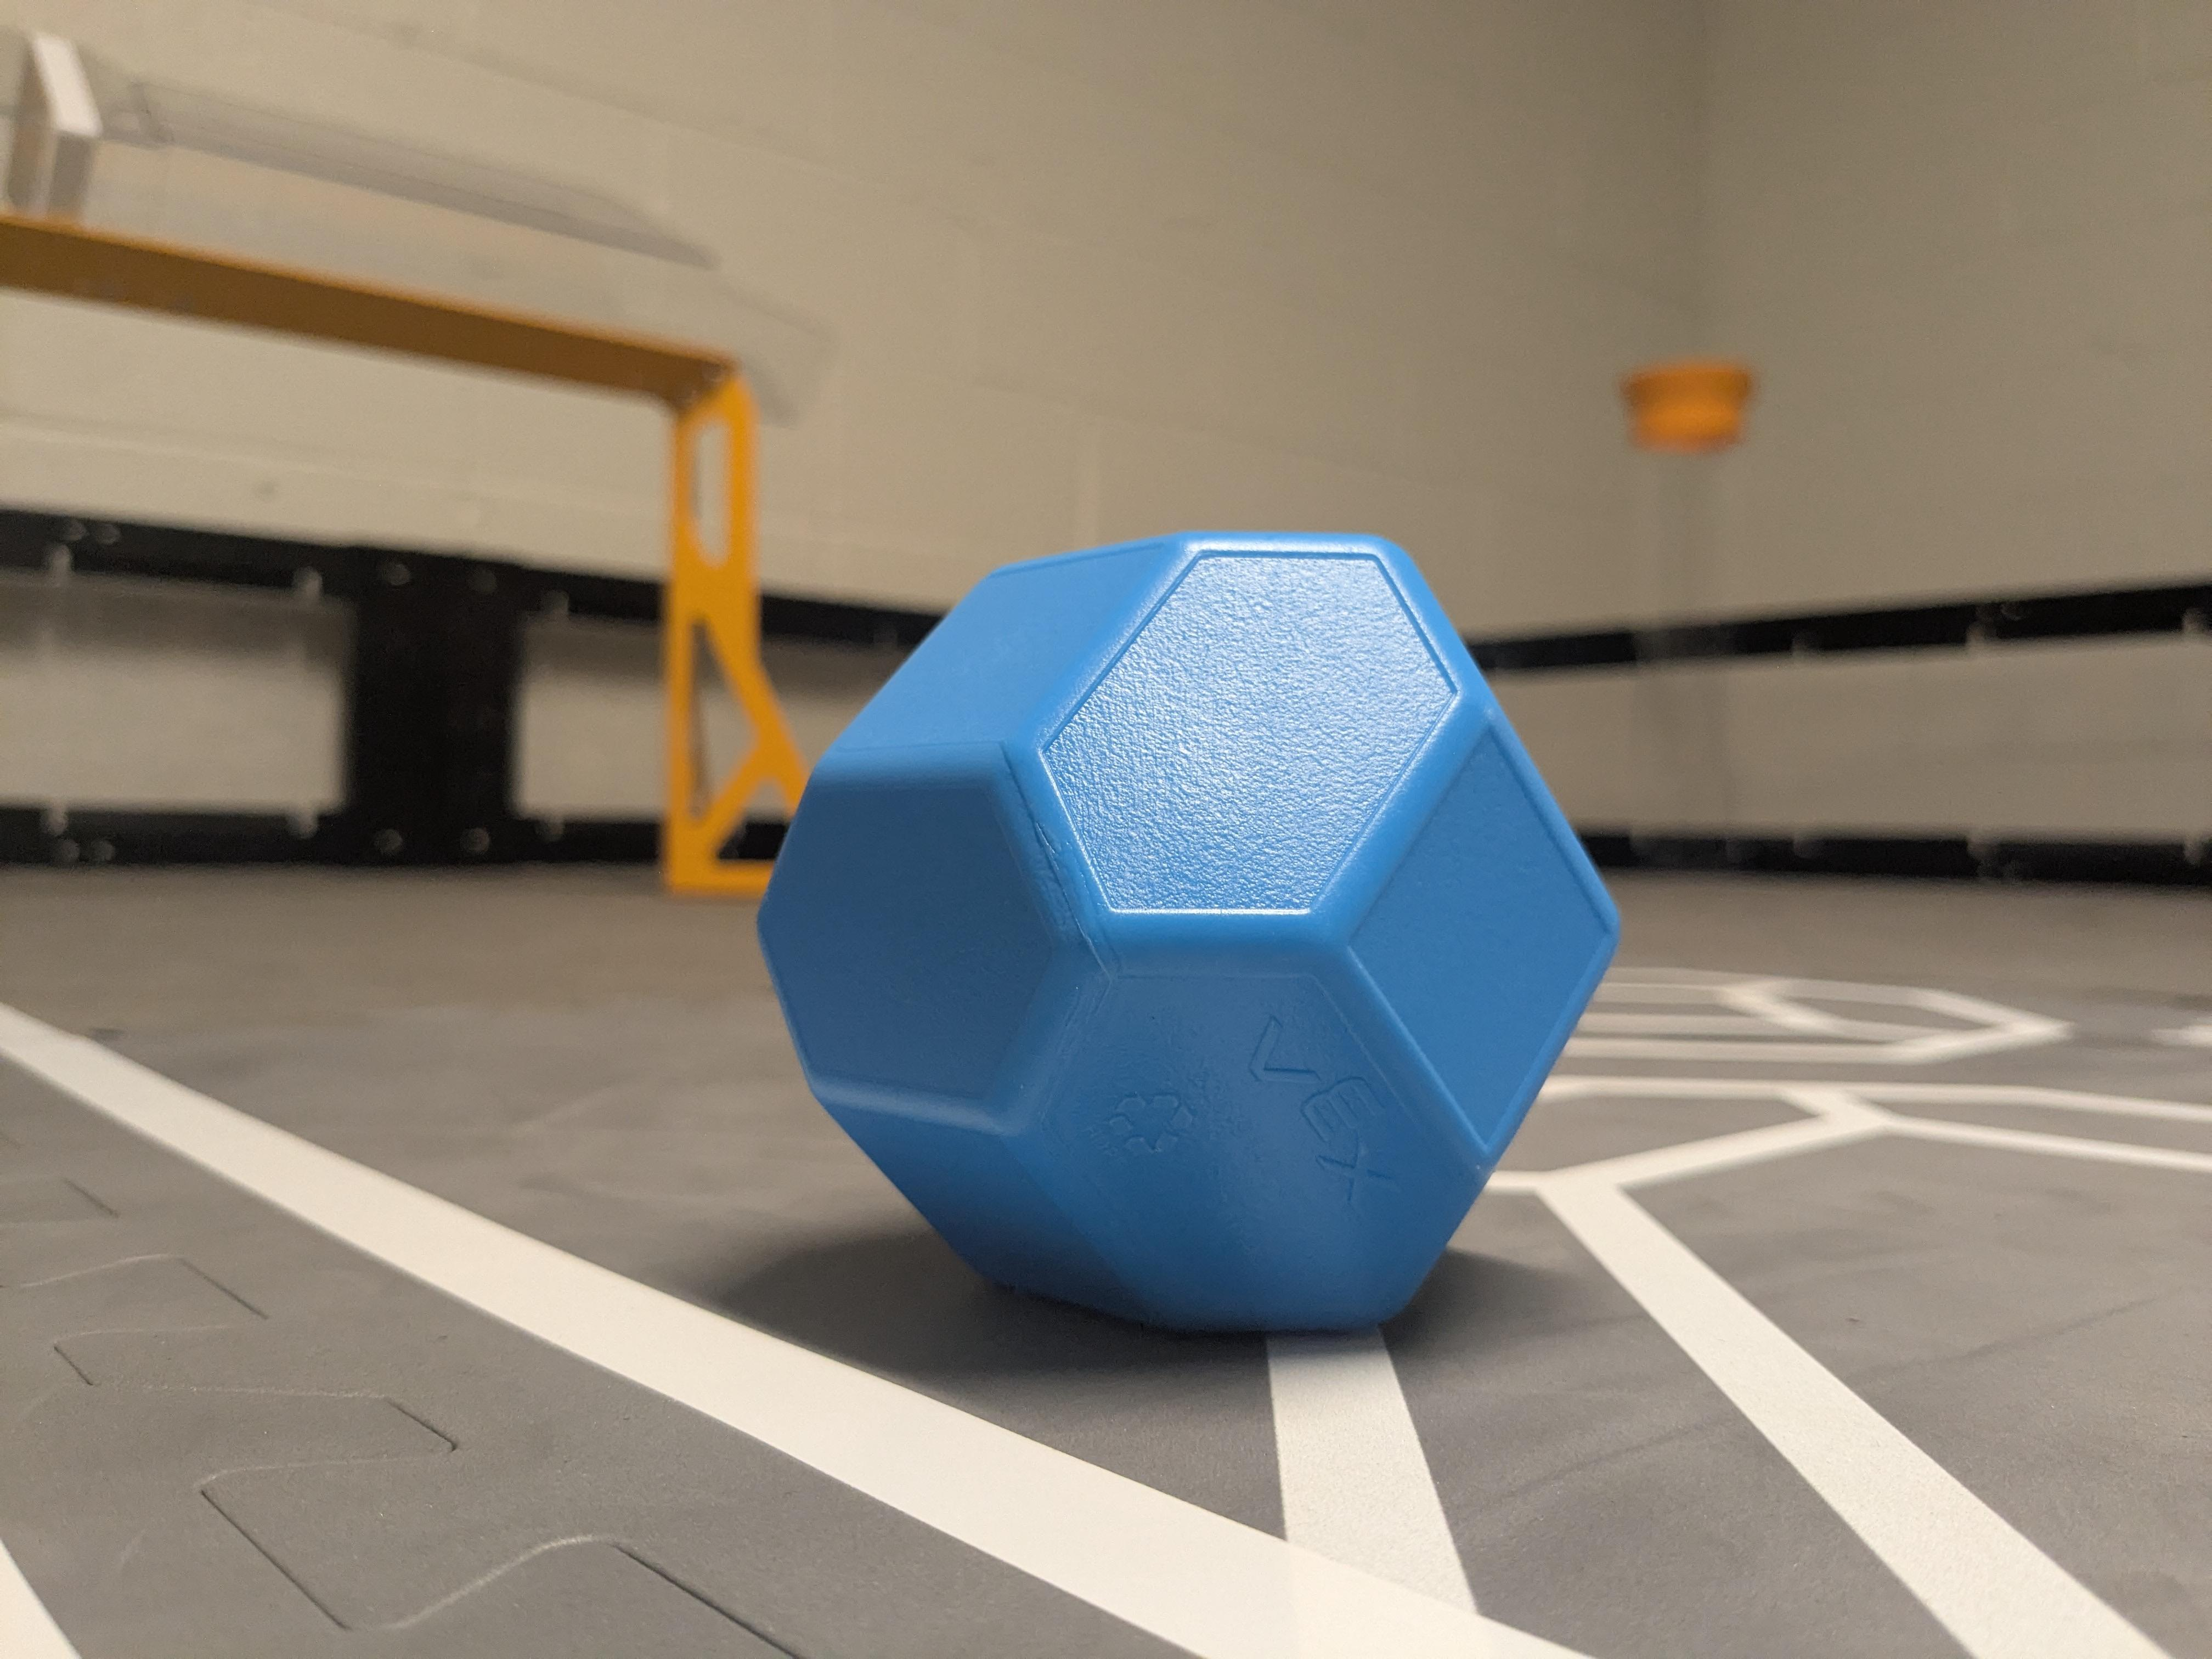Vex-Pieces-BLUE: (759, 533, 1618, 1331)
